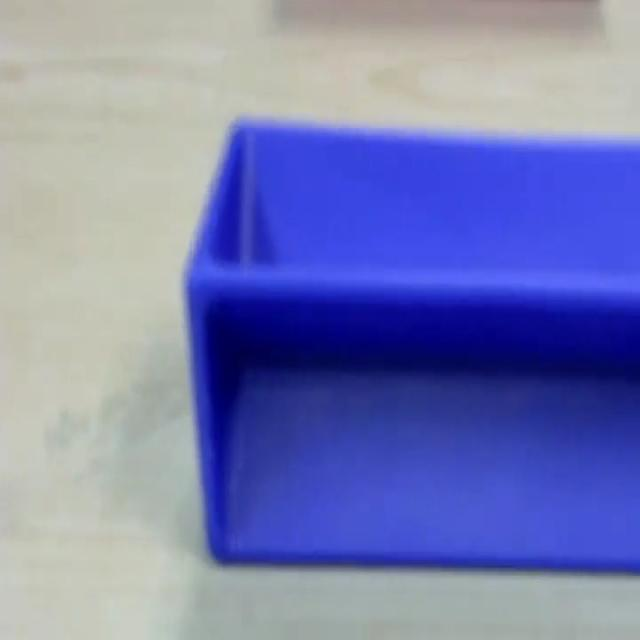blue_block: (182, 112, 638, 572)
